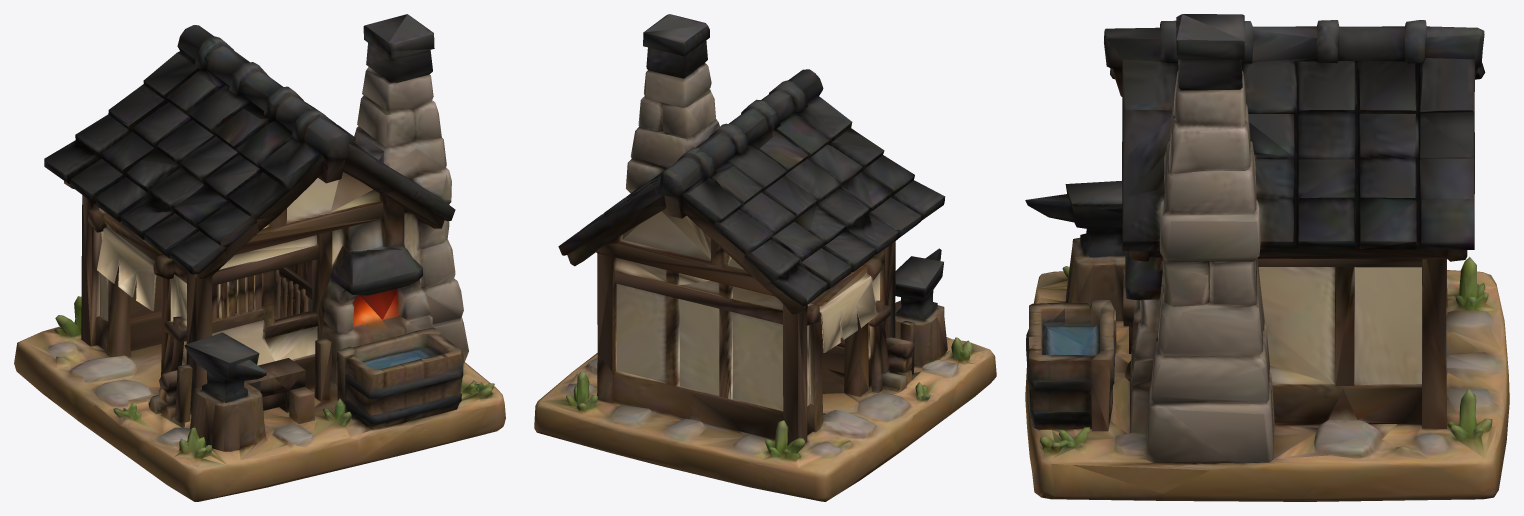
Rendered from smith.glb.
3 views of the same model, side by side, from view 1: azimuth 30°, elevation 25°; view 2: azimuth 150°, elevation 25°; view 3: azimuth 270°, elevation 25° (orthographic). The views are drawn at different scales.
Parts seen in each view (by area): view 1: tripo_node_d69c577c-3a14-4ae5-a22e-575906334329; view 2: tripo_node_d69c577c-3a14-4ae5-a22e-575906334329; view 3: tripo_node_d69c577c-3a14-4ae5-a22e-575906334329.
Boxes of the visible parts, bbox=[...] form: tripo_node_d69c577c-3a14-4ae5-a22e-575906334329: bbox=[14, 14, 505, 501]; tripo_node_d69c577c-3a14-4ae5-a22e-575906334329: bbox=[534, 14, 996, 501]; tripo_node_d69c577c-3a14-4ae5-a22e-575906334329: bbox=[1025, 14, 1509, 501].
Size of the model in its own units: 0.9365 by 0.978 by 0.958.
Materials: 1 (1 with a texture image).
